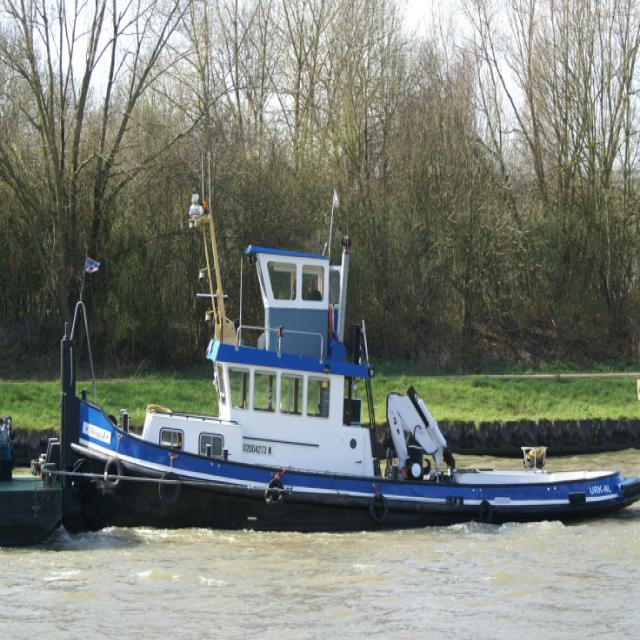tugboat: (41, 210, 640, 545)
